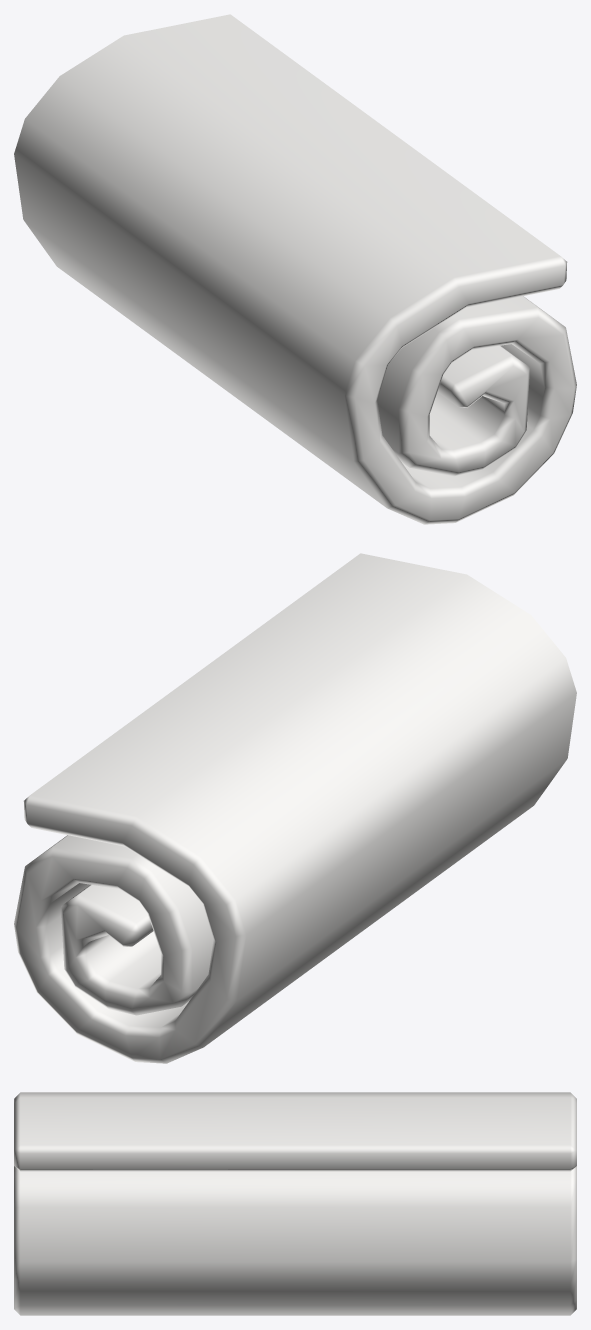
File: Towel_4.glb
3 views of the same model, one above another, from view 1: azimuth 30°, elevation 25°; view 2: azimuth 150°, elevation 25°; view 3: azimuth 270°, elevation 25° (orthographic). The views are drawn at different scales.
Parts seen in each view (by area): view 1: Towel_4; view 2: Towel_4; view 3: Towel_4.
Boxes of the visible parts, box(x1,y1,x2,y2) form: Towel_4: box(14, 14, 576, 524); Towel_4: box(14, 553, 576, 1063); Towel_4: box(14, 1092, 576, 1315).
Size of the model in its own units: 0.1598 by 0.1615 by 0.4023.
Materials: 1 (1 with a texture image).
